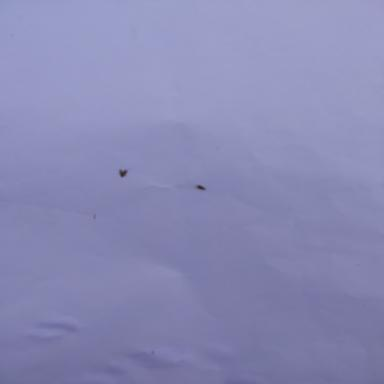pbw: (193, 184, 209, 192)
